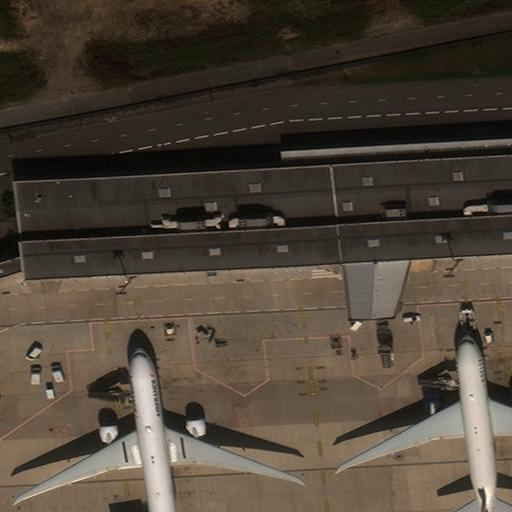Large Civil Transport: (17, 348, 299, 511), (337, 335, 511, 511)
